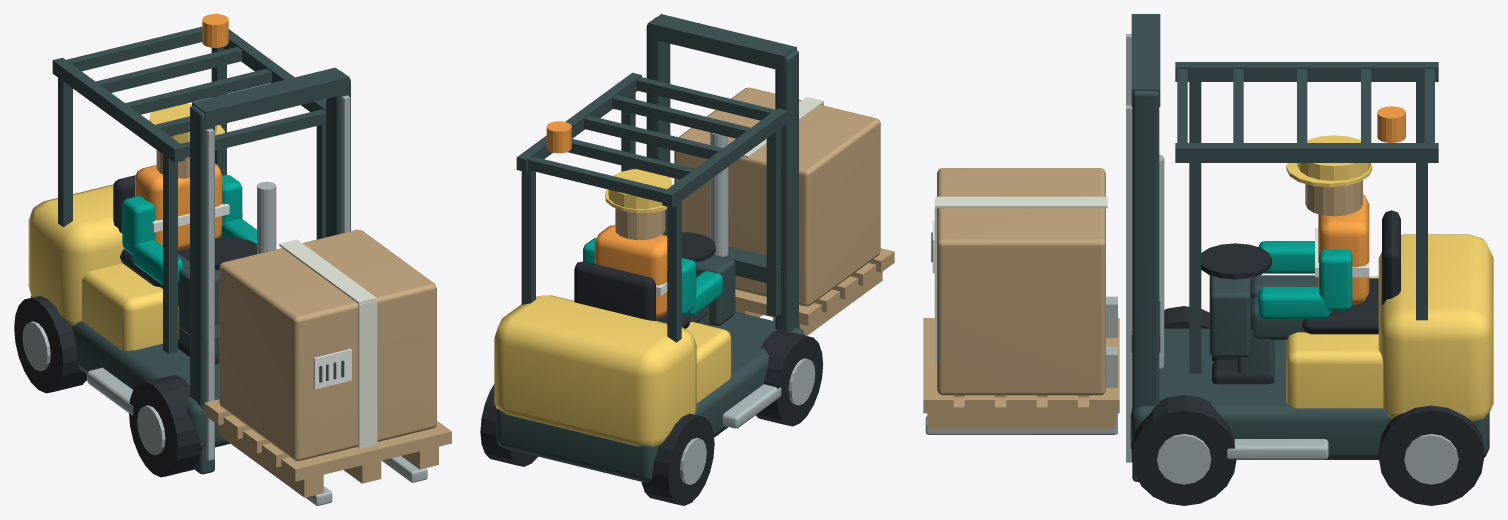
The model's file is forklift.glb.
3 renders of one model, left to right at view 1: azimuth 30°, elevation 25°; view 2: azimuth 150°, elevation 25°; view 3: azimuth 270°, elevation 25°, orthographic. The views are drawn at different scales.
Parts seen in each view (by area): view 1: Pallet runner, Forklift chassis, Counterweight, Foot step, Forklift tire.001, Packing tape, Operator upper arm, Forklift tire, Forklift operator torso, Seat cushion, Shipping label, Forklift hub (+1 smaller); view 2: Forklift chassis, Counterweight, Pallet runner, Seat cushion, Forklift operator torso, Forklift tire.001, Forklift tire, Foot step, Operator upper arm, Forklift tire.002, Forklift hub.001, Forklift hub (+1 smaller); view 3: Forklift chassis, Pallet runner, Counterweight, Foot step, Forklift tire.003, Seat cushion, Forklift tire.002, Operator upper arm, Forklift operator torso, Packing tape, Forklift hub.002, Forklift hub.003 (+1 smaller).
Part boxes in pixels (x1,y1,x2,y2): Pallet runner: (156, 150, 451, 497); Forklift chassis: (31, 26, 350, 474); Counterweight: (28, 103, 242, 350); Foot step: (87, 95, 427, 505); Forklift tire.001: (129, 375, 202, 477); Packing tape: (279, 239, 377, 448); Operator upper arm: (122, 175, 256, 284); Forklift tire: (14, 296, 86, 393); Forklift operator torso: (135, 14, 228, 250); Seat cushion: (113, 175, 256, 364); Shipping label: (152, 204, 351, 389); Forklift hub: (22, 321, 50, 370); Forklift chassis: (496, 14, 804, 482); Counterweight: (494, 169, 731, 447); Pallet runner: (615, 87, 894, 335); Seat cushion: (574, 232, 715, 328); Forklift operator torso: (546, 121, 667, 318); Forklift tire.001: (756, 329, 823, 426); Forklift tire: (641, 413, 714, 505); Foot step: (710, 132, 781, 428); Operator upper arm: (583, 238, 722, 315); Forklift tire.002: (480, 384, 537, 466); Forklift hub.001: (788, 358, 815, 405); Forklift hub: (680, 437, 706, 484); Forklift chassis: (931, 14, 1489, 481); Pallet runner: (923, 168, 1362, 428); Counterweight: (1286, 135, 1493, 421); Foot step: (925, 34, 1328, 462); Forklift tire.003: (1131, 395, 1236, 505); Seat cushion: (1201, 210, 1400, 384); Forklift tire.002: (1378, 405, 1483, 505); Operator upper arm: (1258, 241, 1352, 319); Forklift operator torso: (1318, 106, 1405, 304); Packing tape: (934, 196, 1107, 363); Forklift hub.002: (1404, 434, 1458, 484); Forklift hub.003: (1157, 434, 1211, 484).
Size of the model in its own units: 1.61 by 2.78 by 3.58.
